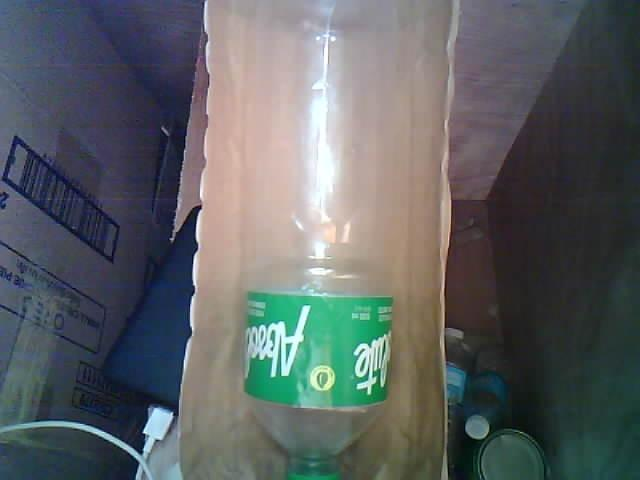large_bottle: (241, 0, 408, 480)
